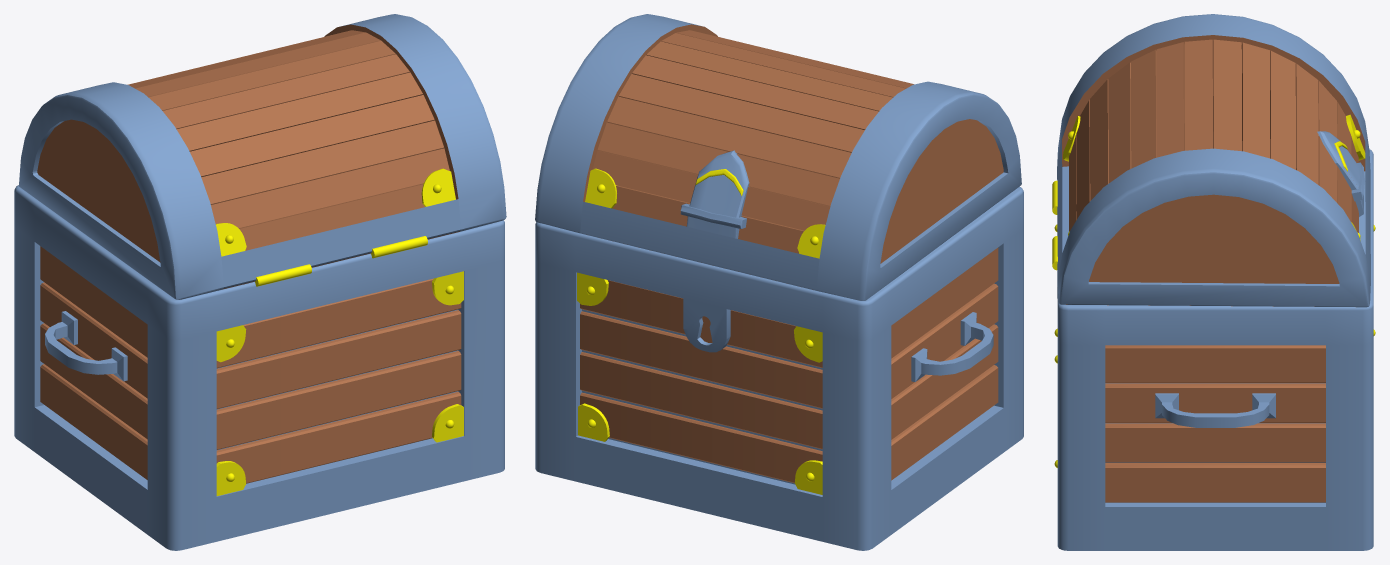
File: Chest_Blue.fbx
The picture shows the model from 3 angles, left to right: view 1: azimuth 30°, elevation 25°; view 2: azimuth 150°, elevation 25°; view 3: azimuth 270°, elevation 25°; orthographic projection. The views are drawn at different scales.
Visible parts, largest first — view 1: Chest_Bottom, Chest_Up; view 2: Chest_Bottom, Chest_Up; view 3: Chest_Up, Chest_Bottom.
Part boxes in pixels (x1=…): Chest_Bottom: x1=14, y1=185, x2=504, y2=550; Chest_Up: x1=19, y1=14, x2=506, y2=299; Chest_Bottom: x1=535, y1=186, x2=1023, y2=550; Chest_Up: x1=535, y1=14, x2=1021, y2=300; Chest_Up: x1=1057, y1=14, x2=1370, y2=307; Chest_Bottom: x1=1052, y1=149, x2=1375, y2=550.
Bounding box in the file's own units: 77.36 × 71.62 × 55.23.
